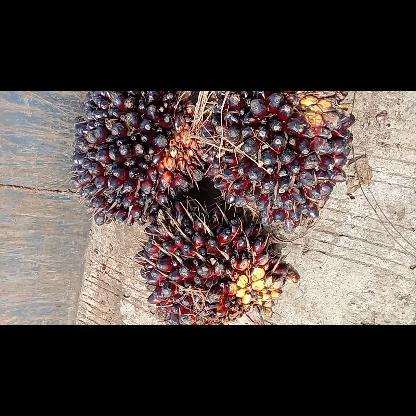TBS mentah: (196, 91, 358, 237), (134, 200, 302, 324), (65, 90, 212, 228)
